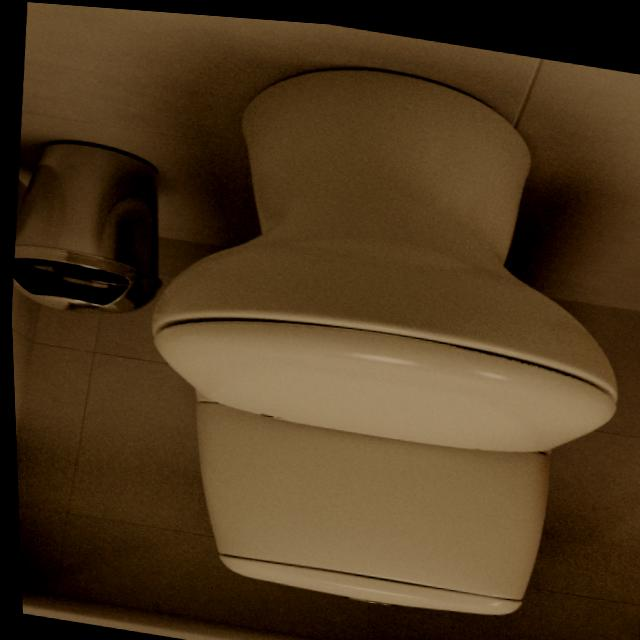toilet: (117, 30, 640, 634)
